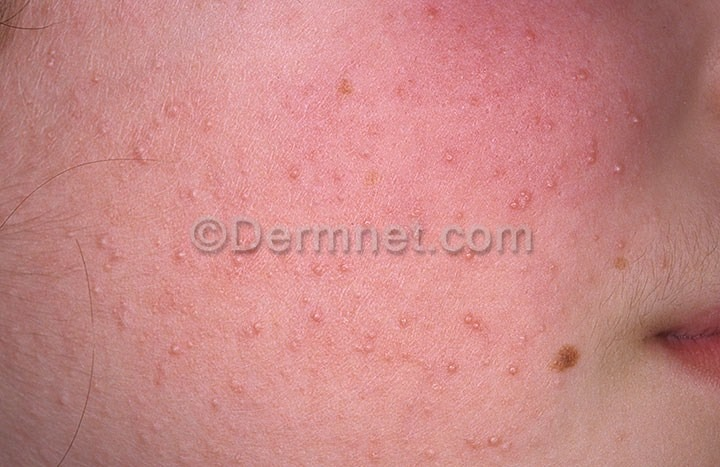Eczema: (12, 9, 662, 459)
